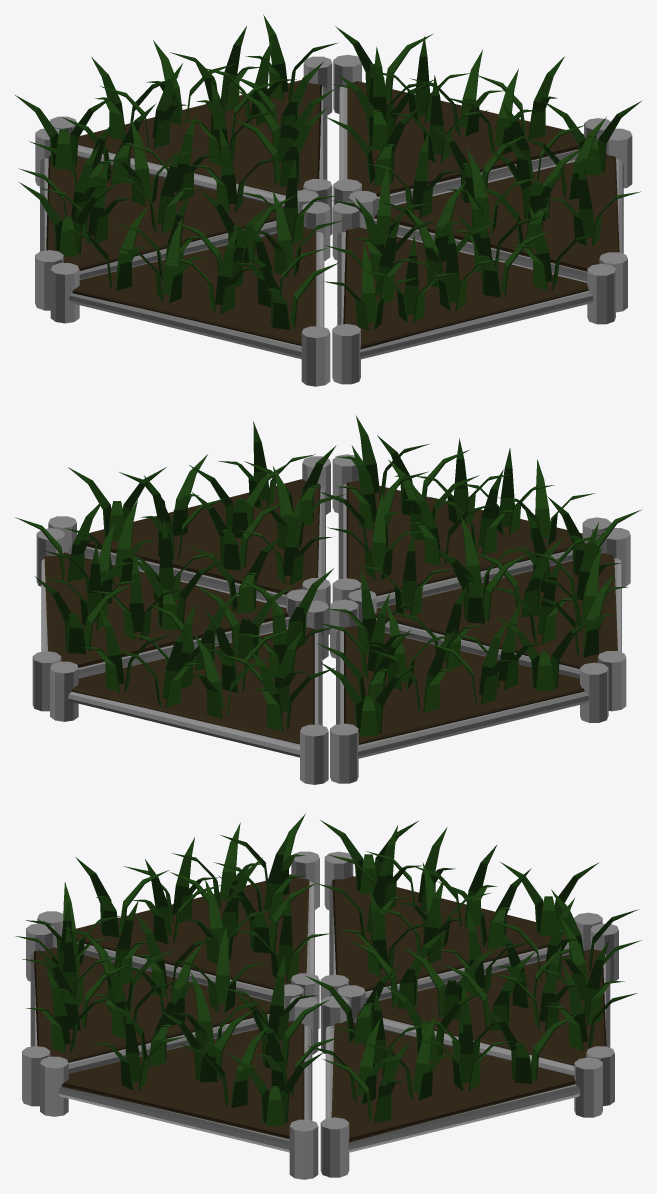
The model's file is birdIsland.FBX.
The picture shows the model from 3 angles, top to bottom: view 1: azimuth 30°, elevation 25°; view 2: azimuth 150°, elevation 25°; view 3: azimuth 270°, elevation 25°; orthographic projection.
Visible parts, largest first — view 1: birdIsland; view 2: birdIsland; view 3: birdIsland.
Boxes of the visible parts, bbox=[...] form: birdIsland: bbox=[15, 14, 642, 386]; birdIsland: bbox=[15, 415, 642, 784]; birdIsland: bbox=[15, 813, 641, 1179].
Bounding box in the file's own units: 53.48 × 8.07 × 50.77.
